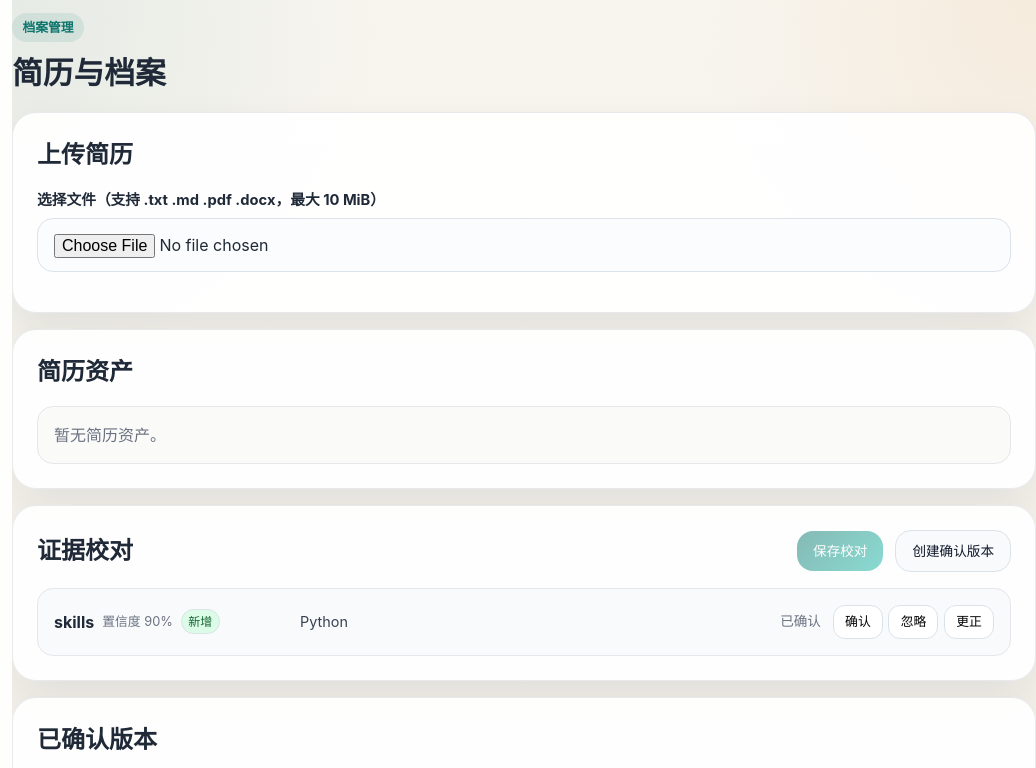
ProfileWorkspace › shows an ordinary confirmed-version failure
Click the button with test id "create-version". click: (953, 551)
box: top-left (895, 530), bottom-right (1011, 572)
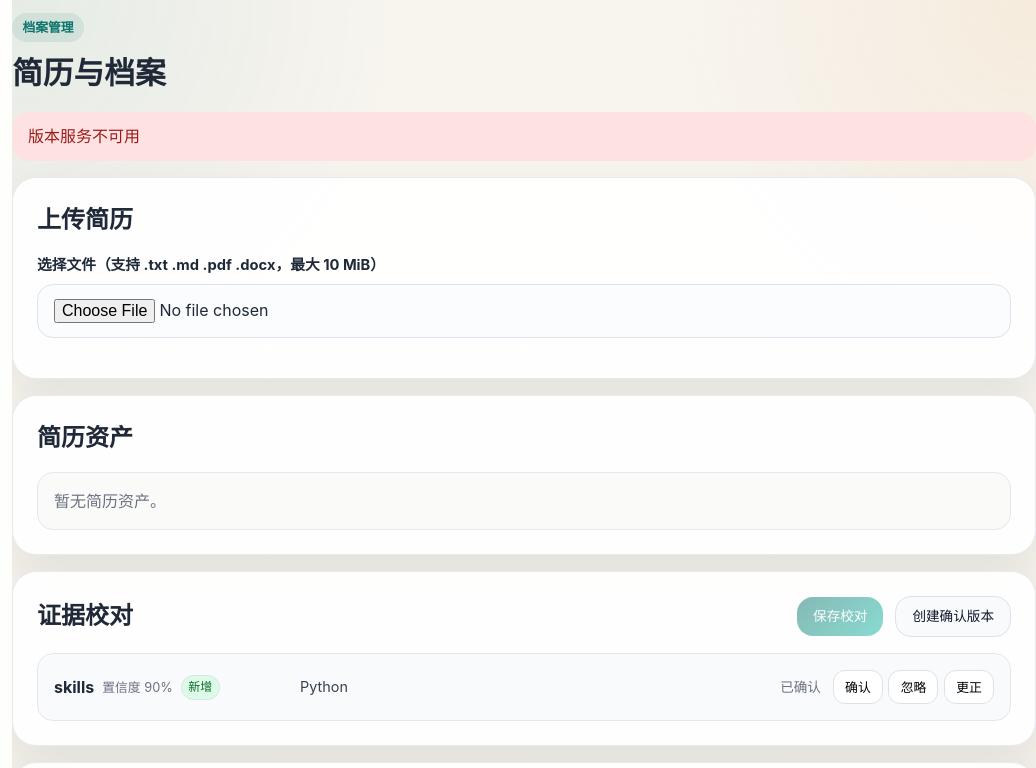
Expected: the text "版本服务不可用" is shown, top-left (12, 112), bottom-right (1035, 161)
